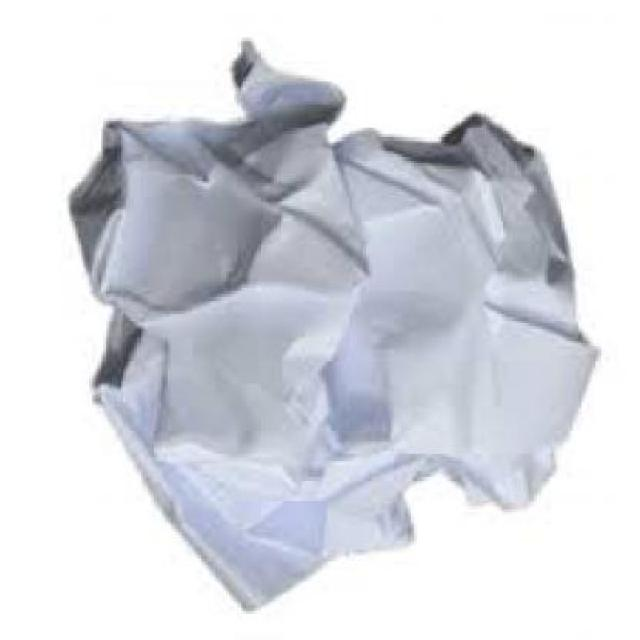PAPER: (73, 44, 604, 616)
